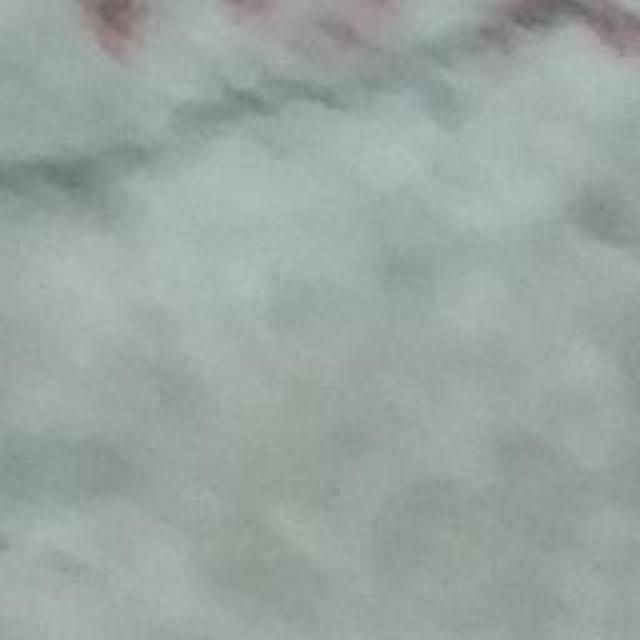Diagonal: (0, 2, 640, 218)
